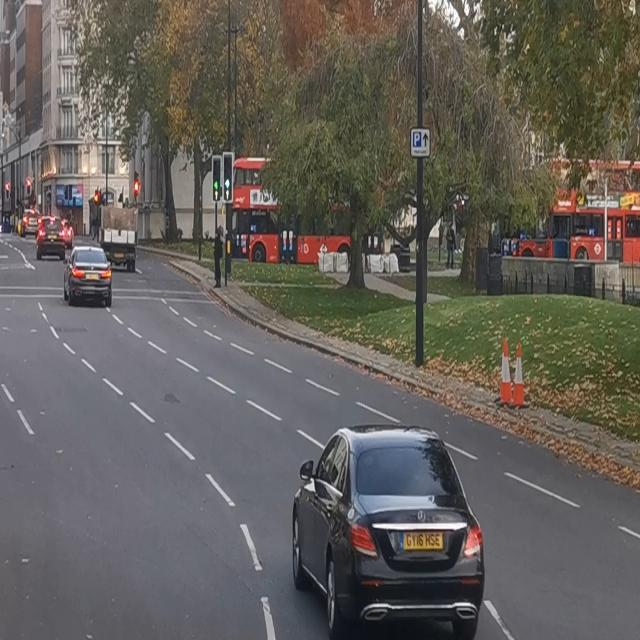Car: (286, 424, 488, 639), (63, 247, 114, 311), (97, 198, 141, 270), (37, 215, 66, 264)
